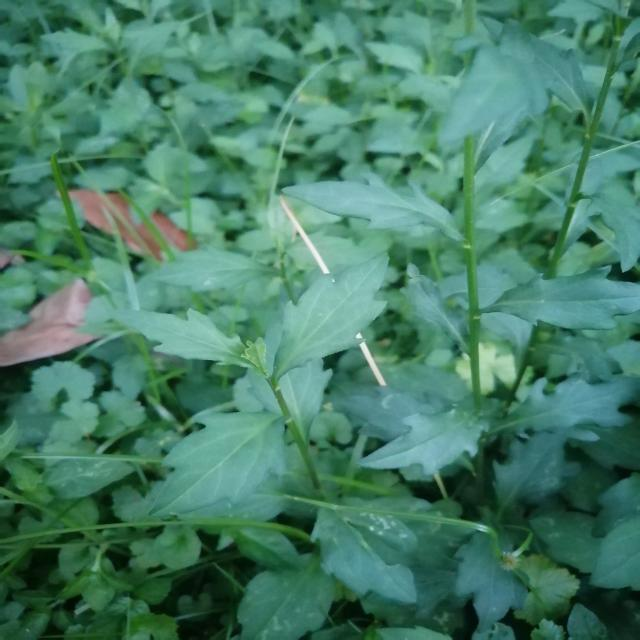Indian aster: (99, 240, 437, 528)
